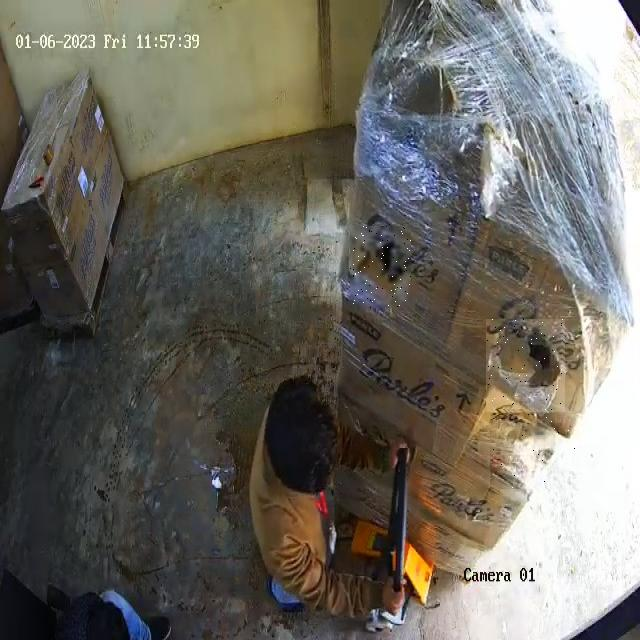leakage: (487, 320, 563, 410), (350, 227, 411, 308)
squeeze: (491, 414, 580, 488)
